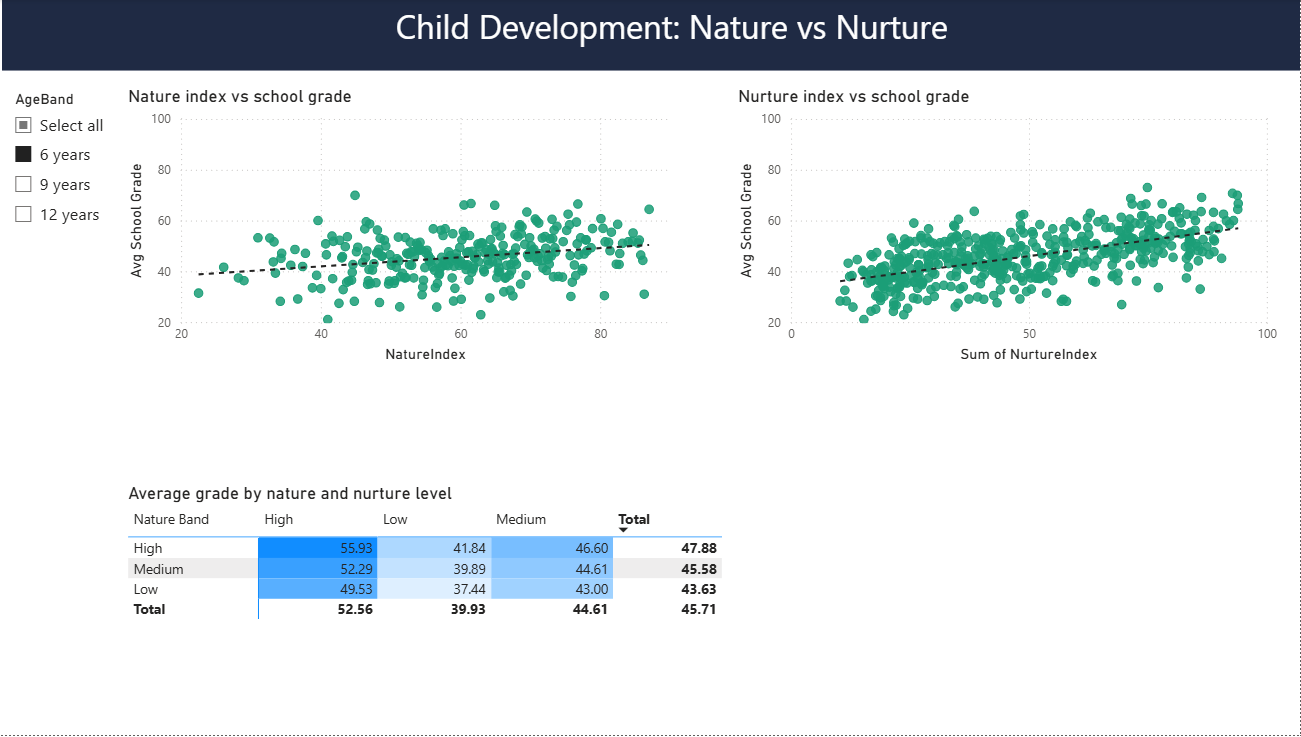

The page's visual inventory and layout, read from the dashboard file:
{"tool":"powerbi","page":{"name":"Nature vs Nurture","canvas":[1280,720],"ordinal":1},"visuals":[{"type":"shape","box":[10,0,1270,70],"z":0},{"type":"textbox","box":[390,0,565.7,57.1],"z":1000},{"type":"slicer","fields":{"Values":["tblAgeBands.AgeBand"]},"box":[10,84.3,145.7,157.1],"z":2000},{"type":"scatterChart","title":"Nature index vs school grade","fields":{"Y":["_Measures.Avg School Grade"],"X":["tblChildren.NatureIndex"]},"box":[128.6,84.3,547.1,275.7],"z":3000},{"type":"scatterChart","title":"Nurture index vs school grade","fields":{"Y":["_Measures.Avg School Grade"],"Category":["tblChildren.ChildID"],"X":["Sum(tblChildren.NurtureIndex)"]},"box":[725.7,84.3,537.1,275.7],"z":4000},{"type":"pivotTable","title":"Average grade by nature and nurture level","fields":{"Rows":["tblChildren.Nature Band"],"Columns":["tblChildren.Nurture Band"],"Values":["_Measures.Avg School Grade"]},"box":[128.6,472.9,597.1,222.9],"z":5000}]}

Visuals, with their boxes in screenshot pixels (x1, y1, x2, y2), scaled from the page's 1280x720 canvas onto the 1301x737 screenshot:
shape: (left=10, top=0, right=1300, bottom=72)
textbox: (left=396, top=0, right=971, bottom=58)
slicer - tblAgeBands.AgeBand: (left=10, top=86, right=158, bottom=247)
"Nature index vs school grade" scatterChart: (left=131, top=86, right=687, bottom=368)
"Nurture index vs school grade" scatterChart: (left=738, top=86, right=1284, bottom=368)
"Average grade by nature and nurture level" pivotTable: (left=131, top=484, right=738, bottom=712)
